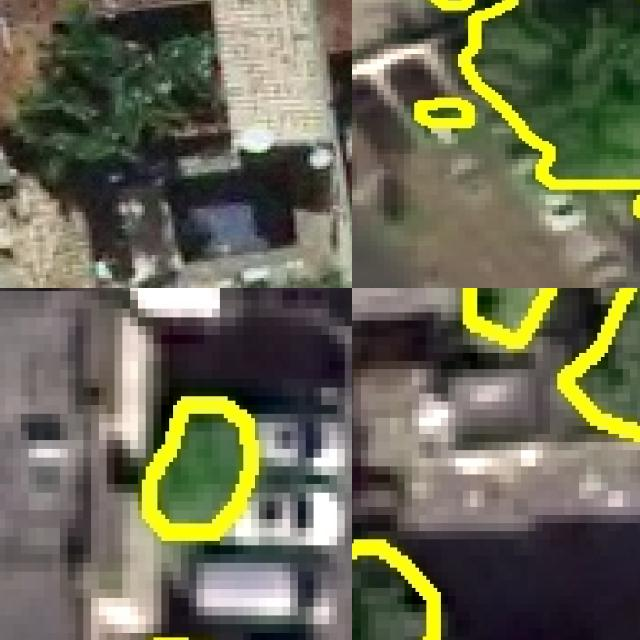trees: (462, 1, 640, 186), (147, 402, 252, 533), (562, 289, 640, 438), (353, 544, 435, 640), (467, 289, 555, 342), (419, 101, 472, 124)
